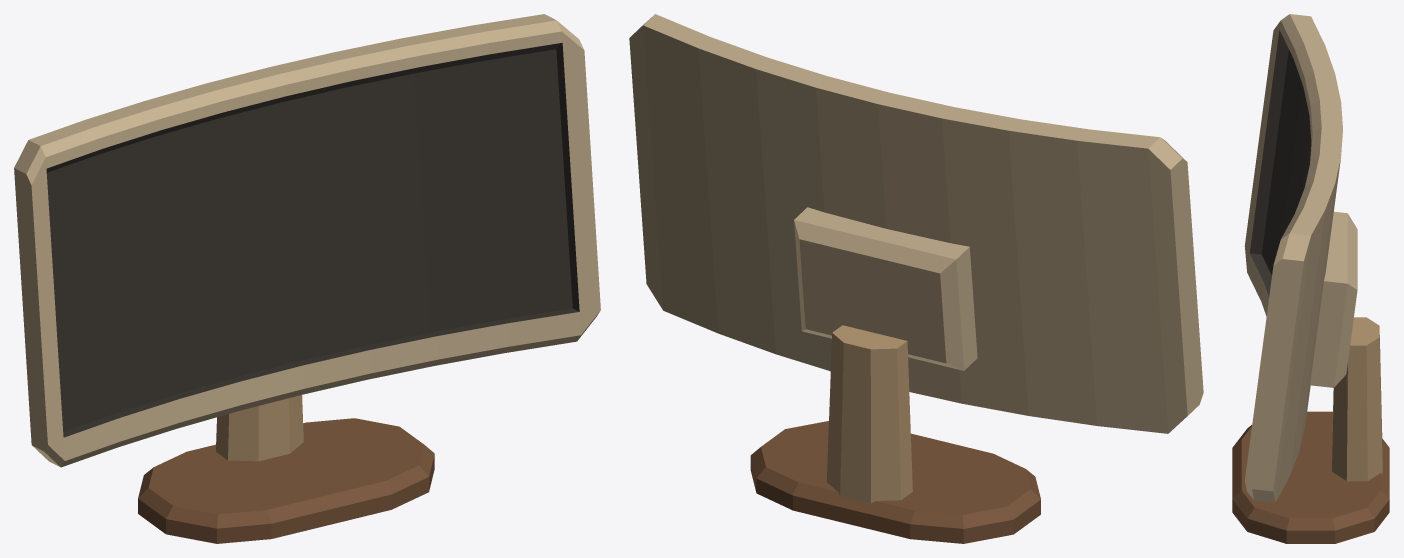
Rendered from desk-monitor-32cfce.glb.
The picture shows the model from 3 angles, left to right: view 1: azimuth 30°, elevation 25°; view 2: azimuth 150°, elevation 25°; view 3: azimuth 270°, elevation 25°; orthographic projection. The views are drawn at different scales.
Visible parts, largest first — view 1: panel-mesh, stand; view 2: panel-mesh, stand; view 3: panel-mesh, stand.
Boxes of the visible parts, x1,y1,x2,y2 form: panel-mesh: (14, 14, 600, 467); stand: (138, 395, 434, 543); panel-mesh: (629, 14, 1203, 433); stand: (750, 325, 1040, 543); panel-mesh: (1244, 14, 1357, 502); stand: (1232, 317, 1389, 543).
Bounding box in the file's own units: 0.6 × 0.4324 × 0.17.
